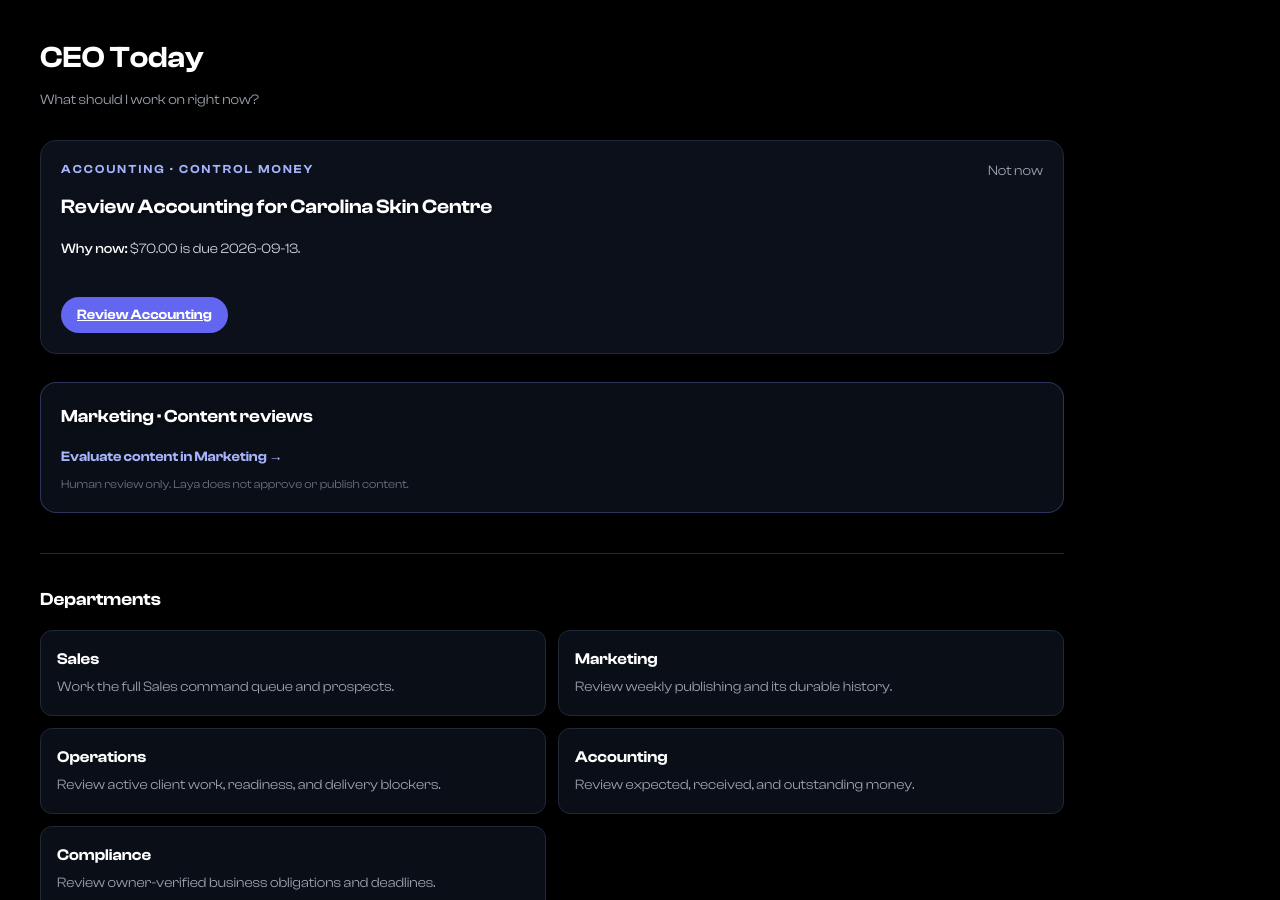
Test: AdminOverview CEO Today › renders a read-only CONTROL MONEY card and keeps Not now local
Expected: the heading "Review Accounting for Carolina Skin Centre" is shown, [61,193,492,221]
Expected: the text "$70.00 is due 2026-09-13." is shown, [130,241,300,257]
Click the button "Not now" at [1015, 171], box [988,161,1043,181]
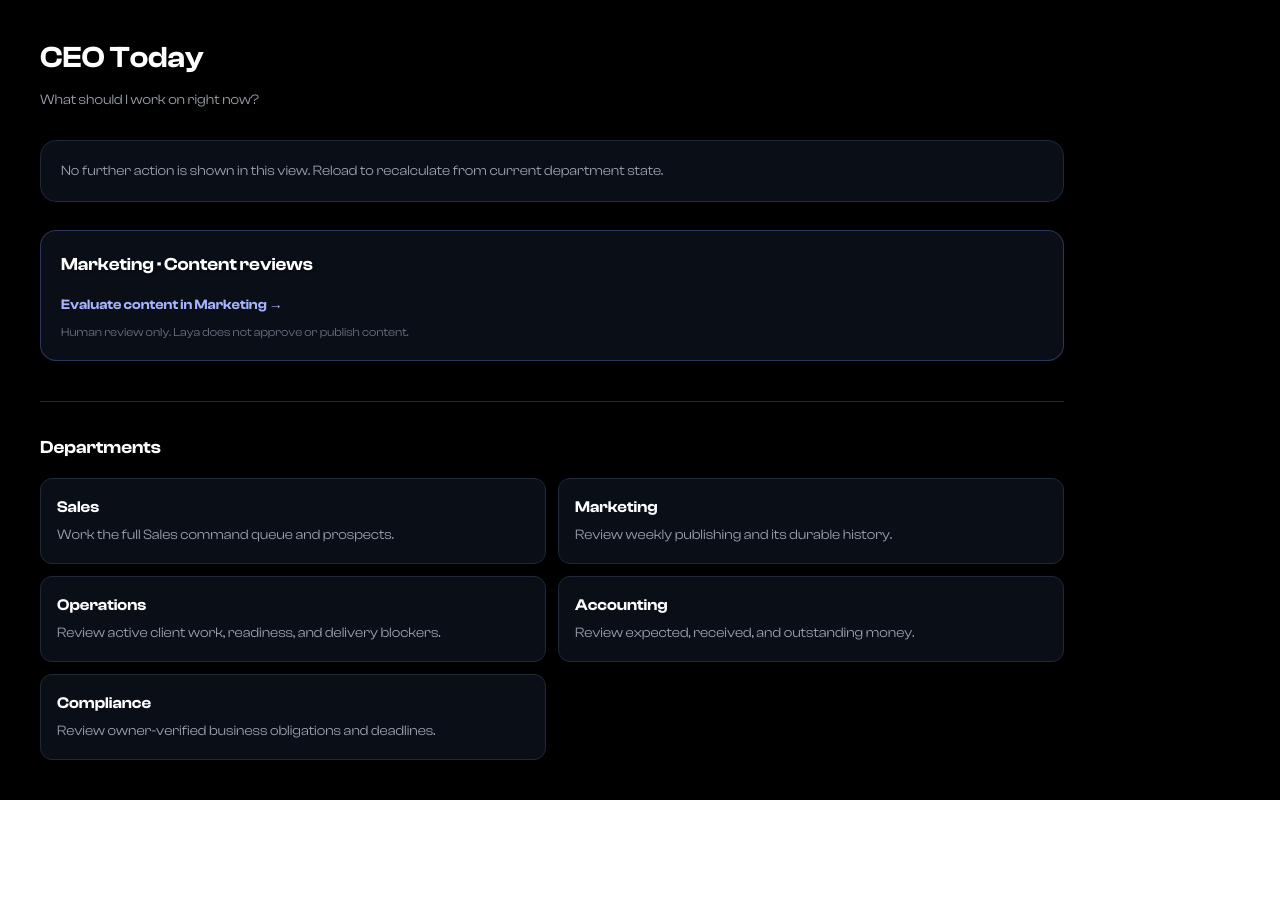
Result: the heading "Review Accounting for Carolina Skin Centre" is gone
